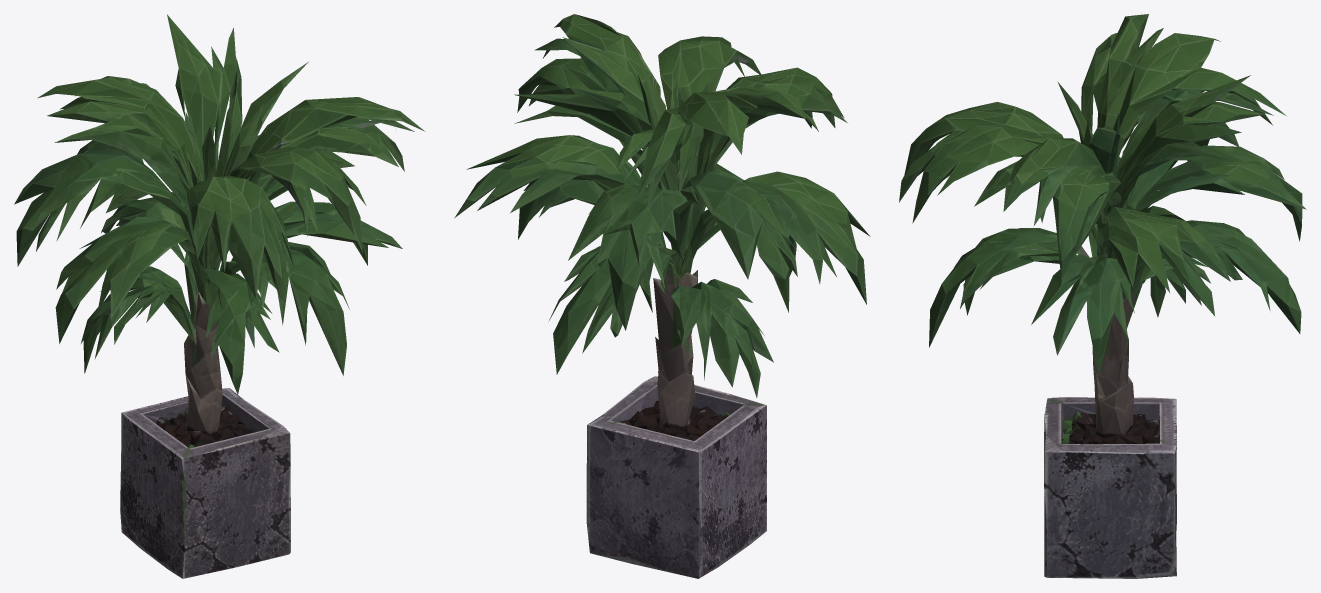
File: plant_big.glb
3 renders of one model, left to right at view 1: azimuth 30°, elevation 25°; view 2: azimuth 150°, elevation 25°; view 3: azimuth 270°, elevation 25°, orthographic. The views are drawn at different scales.
Visible parts, largest first — view 1: output_unwrapped; view 2: output_unwrapped; view 3: output_unwrapped.
Boxes of the visible parts, x1,y1,x2,y2 form: output_unwrapped: (14, 14, 425, 578); output_unwrapped: (454, 14, 870, 578); output_unwrapped: (899, 14, 1306, 578).
Bounding box in the file's own units: 1.42 × 1.9 × 1.43.
Materials: 1 (1 with a texture image).
